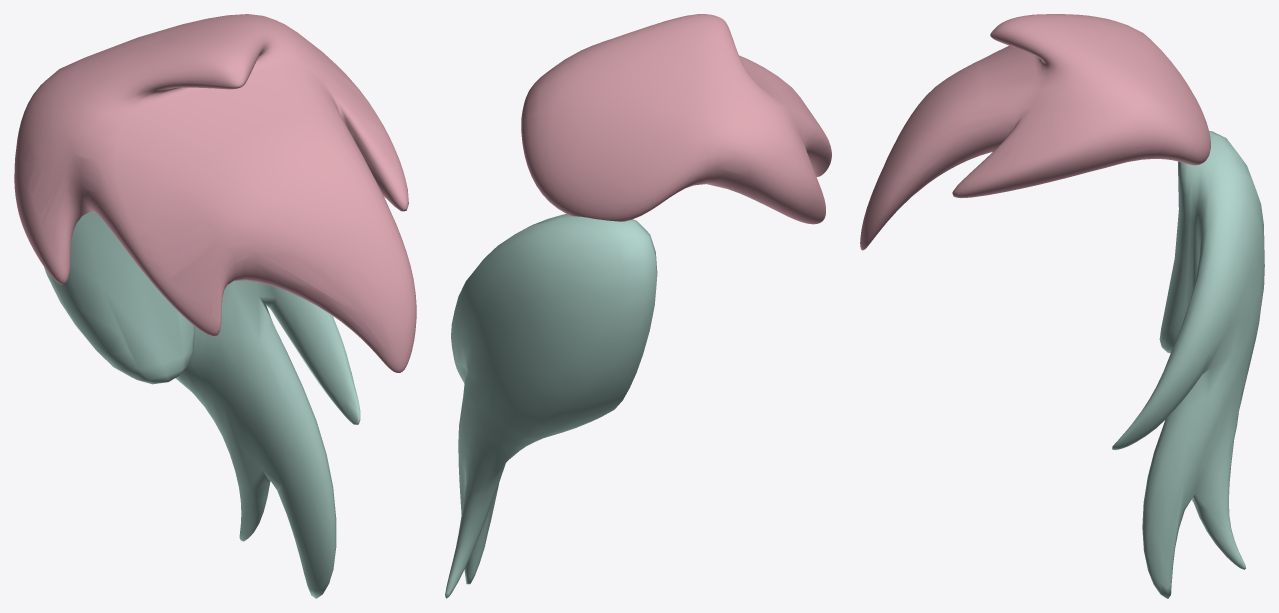
The model's file is Mane_01.fbx.
3 views of the same model, side by side, from view 1: azimuth 30°, elevation 25°; view 2: azimuth 150°, elevation 25°; view 3: azimuth 270°, elevation 25° (orthographic). The views are drawn at different scales.
Parts seen in each view (by area): view 1: mane_m_stormfeather; view 2: mane_m_stormfeather; view 3: mane_m_stormfeather.
Part boxes in pixels (x1,y1,x2,y2): mane_m_stormfeather: (14, 14, 416, 598); mane_m_stormfeather: (445, 14, 831, 598); mane_m_stormfeather: (860, 14, 1264, 598).
Size of the model in its own units: 140 by 239 by 173.
